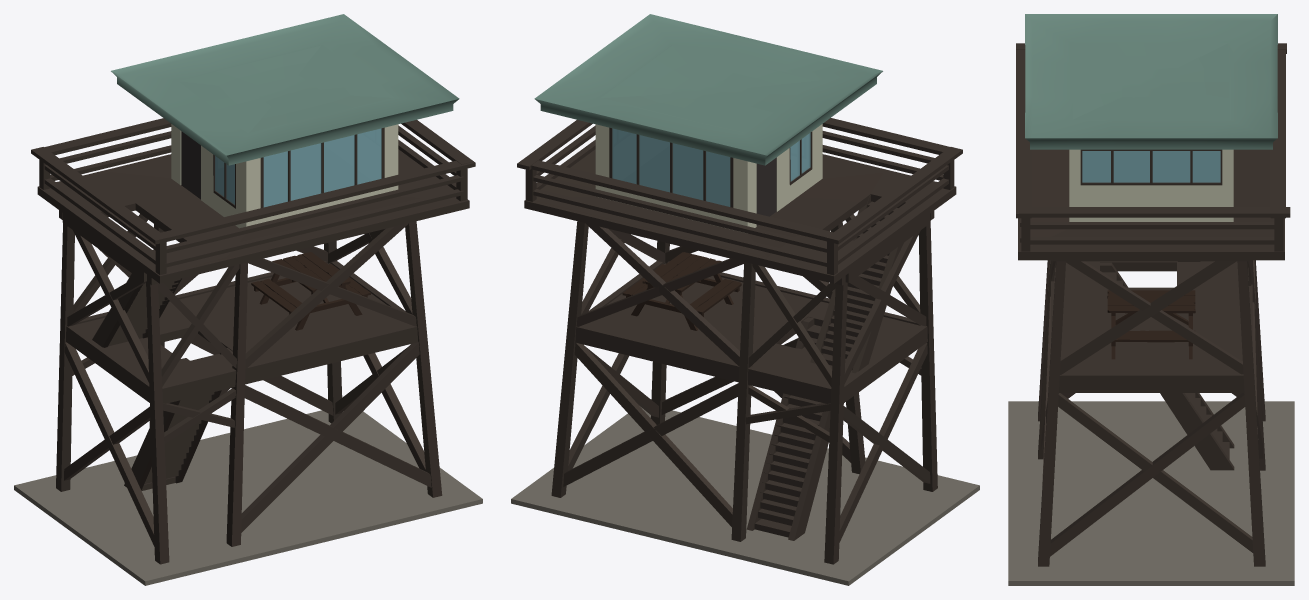
Rendered from Tower_model.fbx.
3 views of the same model, side by side, from view 1: azimuth 30°, elevation 25°; view 2: azimuth 150°, elevation 25°; view 3: azimuth 270°, elevation 25° (orthographic). The views are drawn at different scales.
Visible parts, largest first — view 1: Tower_model; view 2: Tower_model; view 3: Tower_model.
Boxes of the visible parts, bbox=[...] form: Tower_model: bbox=[14, 14, 482, 585]; Tower_model: bbox=[511, 14, 979, 585]; Tower_model: bbox=[1008, 14, 1294, 585].
Bounding box in the file's own units: 2942 × 3373 × 1979.
